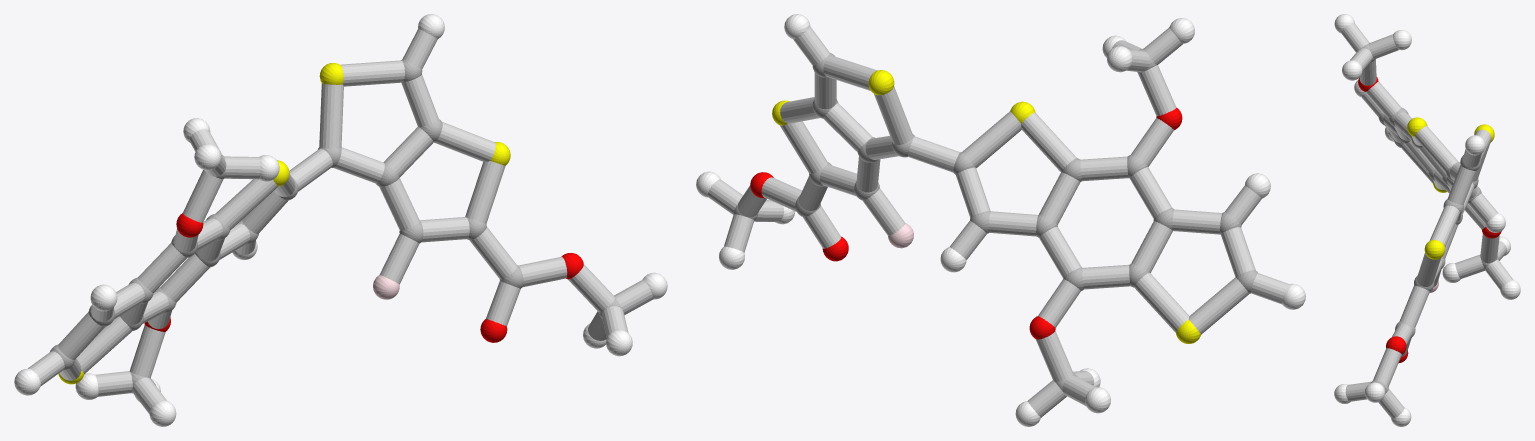
Rendered from color.glb.
3 views of the same model, side by side, from view 1: azimuth 30°, elevation 25°; view 2: azimuth 150°, elevation 25°; view 3: azimuth 270°, elevation 25° (orthographic). The views are drawn at different scales.
Visible parts, largest first — view 1: grp15205, grp8689, grp1, grp13395, grp7241; view 2: grp15205, grp8689, grp1, grp7241, grp13395; view 3: grp15205, grp8689, grp1, grp7241, grp13395.
Part boxes in pixels (bbox=[...]): grp15205: bbox=[28, 29, 653, 414]; grp8689: bbox=[14, 14, 667, 426]; grp1: bbox=[50, 59, 621, 393]; grp13395: bbox=[144, 213, 583, 342]; grp7241: bbox=[58, 63, 510, 384]; grp15205: bbox=[707, 27, 1289, 417]; grp8689: bbox=[696, 14, 1305, 426]; grp1: bbox=[733, 49, 1257, 391]; grp7241: bbox=[772, 70, 1200, 343]; grp13395: bbox=[750, 107, 1182, 339]; grp15205: bbox=[1341, 23, 1513, 418]; grp8689: bbox=[1334, 14, 1520, 426]; grp1: bbox=[1361, 43, 1498, 393]; grp7241: bbox=[1407, 117, 1494, 259]; grp13395: bbox=[1358, 77, 1501, 362].
Size of the model in its own units: 16.35 by 8.6 by 5.46.
